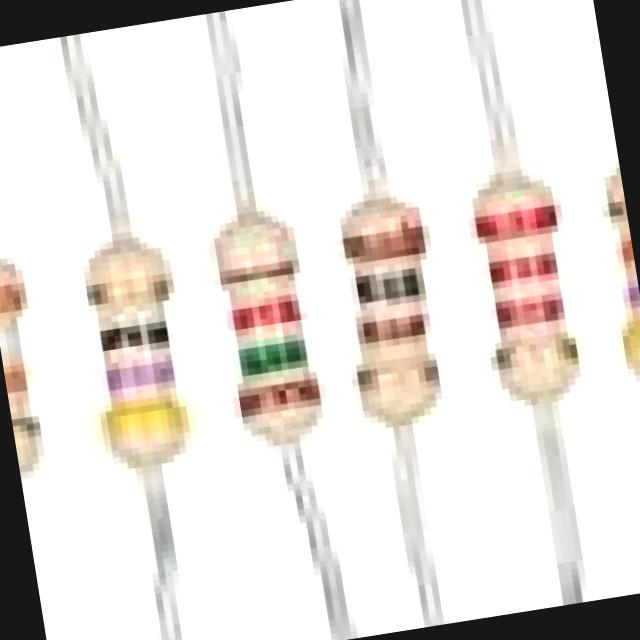Resistor: (216, 213, 321, 446), (475, 178, 578, 404), (87, 240, 188, 468), (342, 196, 439, 426), (0, 243, 54, 479), (607, 167, 640, 375)
black: (354, 265, 439, 310), (99, 320, 173, 350)
brown: (227, 380, 323, 416), (335, 226, 431, 260), (358, 315, 432, 340)
gold: (491, 337, 585, 371), (84, 272, 175, 305), (354, 358, 448, 389)
green: (230, 336, 315, 377)
orange: (617, 238, 634, 263)
purple: (105, 353, 194, 389), (623, 281, 639, 307)
red: (462, 201, 567, 239), (481, 250, 571, 286), (231, 296, 306, 333), (496, 295, 570, 329)
white: (0, 323, 32, 362)
yellow: (93, 397, 192, 443), (620, 320, 639, 351)
